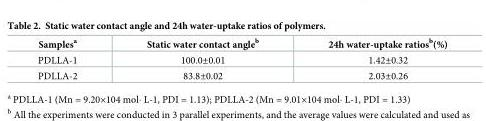table: (37, 37, 446, 81)
table column: (111, 37, 292, 81), (292, 37, 446, 81), (37, 37, 111, 81)
table column header: (37, 37, 446, 51)
table row: (37, 51, 446, 67), (37, 37, 446, 51), (37, 67, 446, 81)
